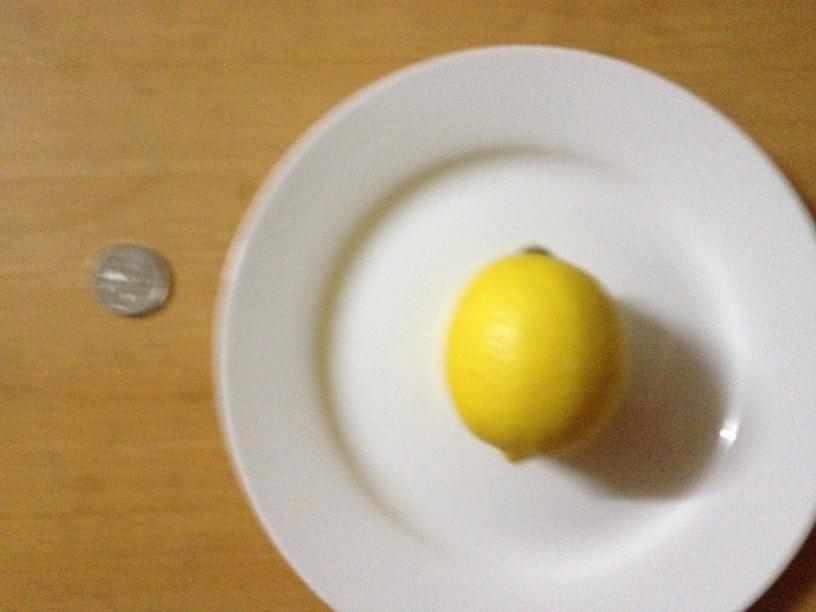coin: (90, 245, 169, 316)
lemon: (448, 247, 623, 460)
